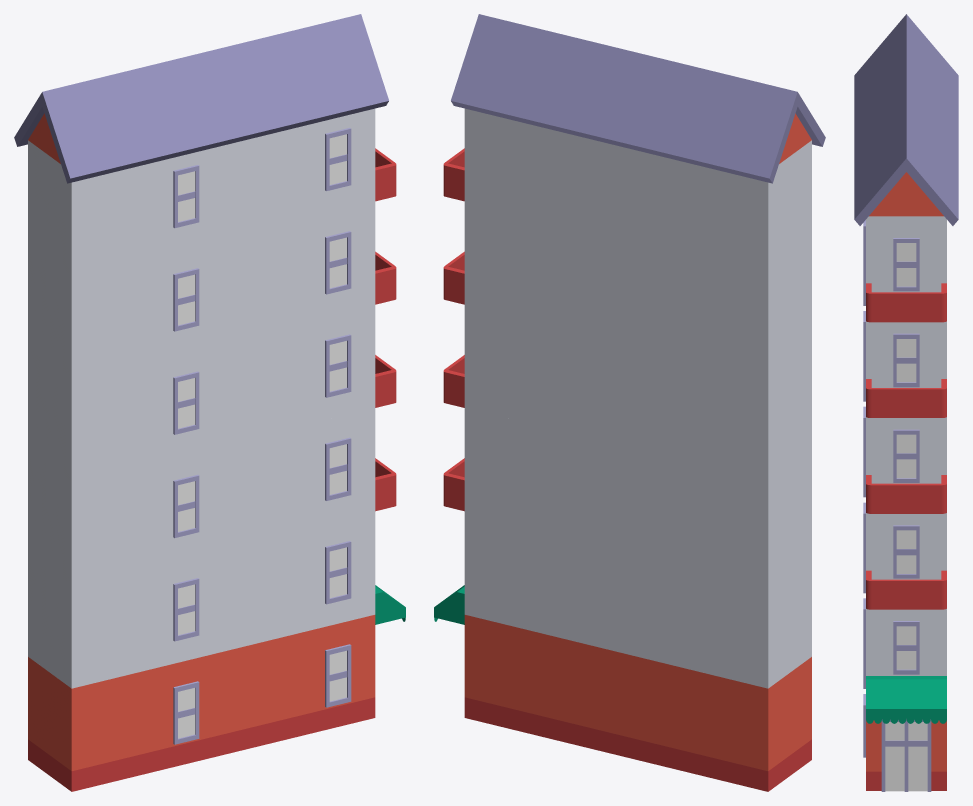
Rendered from building.glb.
The picture shows the model from 3 angles, left to right: view 1: azimuth 30°, elevation 25°; view 2: azimuth 150°, elevation 25°; view 3: azimuth 270°, elevation 25°; orthographic projection. The views are drawn at different scales.
Parts seen in each view (by area): view 1: block (×24), roof (×4), window (×12), detail_balcony (×4), awning; view 2: block (×24), roof (×4), detail_balcony (×4), awning; view 3: block (×6), roof (×4), detail_balcony (×4), window (×5), awning, door_wide.
Boxes of the visible parts, x1,y1,x2,y2 form: block (×24): (28,108,375,791); roof (×4): (14,14,388,183); window (×12): (173,128,351,744); detail_balcony (×4): (375,148,396,511); awning: (375,585,405,624); block (×24): (464,108,811,791); roof (×4): (451,14,825,183); detail_balcony (×4): (443,148,464,511); awning: (434,585,464,624); block (×6): (866,216,946,790); roof (×4): (854,14,958,225); detail_balcony (×4): (866,283,946,609); window (×5): (893,238,919,674); awning: (866,676,946,723); door_wide: (881,719,931,791).
Bounding box in the file's own units: 4.5 × 8.63 × 1.28.
